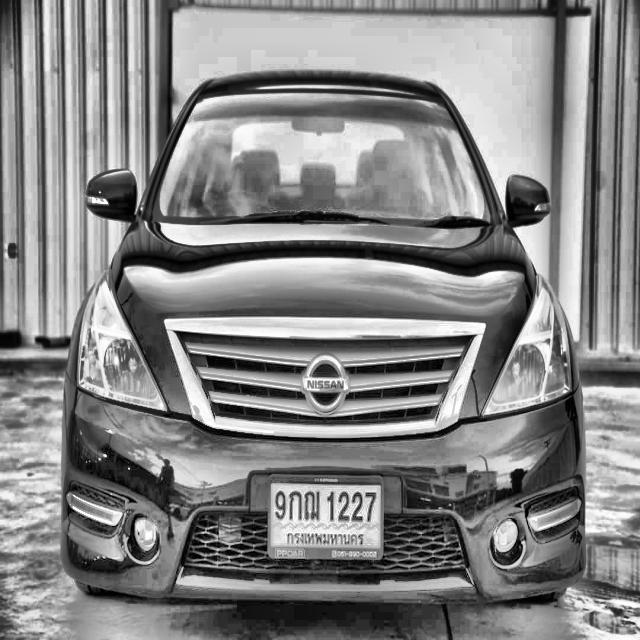license-plate: (266, 472, 385, 558)
